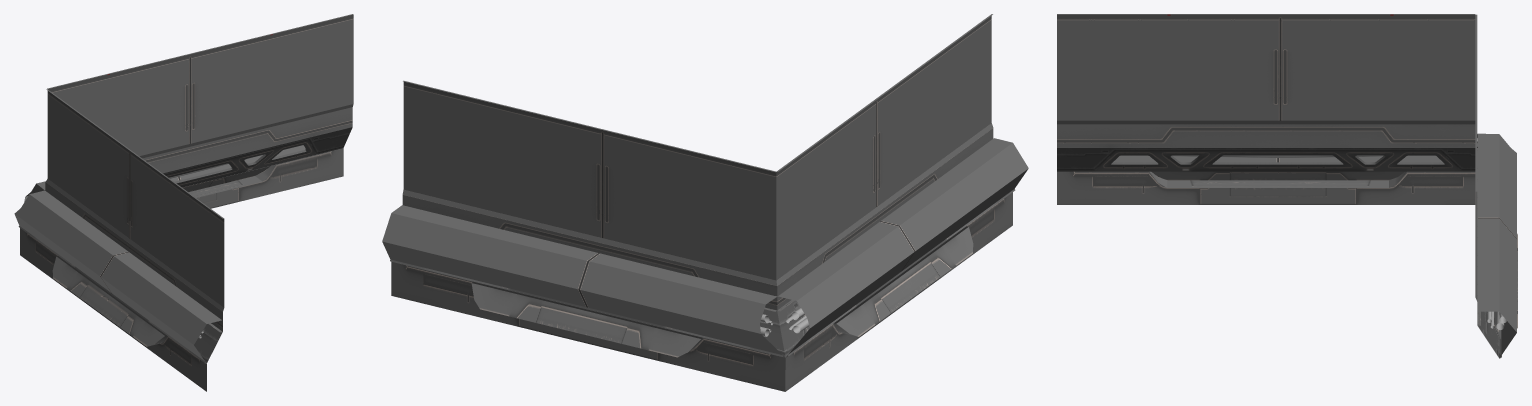
Rendered from S_TopCablesCornerSquareInner.gltf.
The picture shows the model from 3 angles, left to right: view 1: azimuth 30°, elevation 25°; view 2: azimuth 150°, elevation 25°; view 3: azimuth 270°, elevation 25°; orthographic projection. The views are drawn at different scales.
Parts seen in each view (by area): view 1: Plane_074-col; view 2: Plane_074-col; view 3: Plane_074-col.
Part boxes in pixels (x1,y1,x2,y2): Plane_074-col: (14, 14, 353, 391); Plane_074-col: (382, 14, 1028, 391); Plane_074-col: (1057, 14, 1517, 358).
Bounding box in the file's own units: 4.17 × 2 × 4.17.
Materials: 4 (4 with a texture image).
